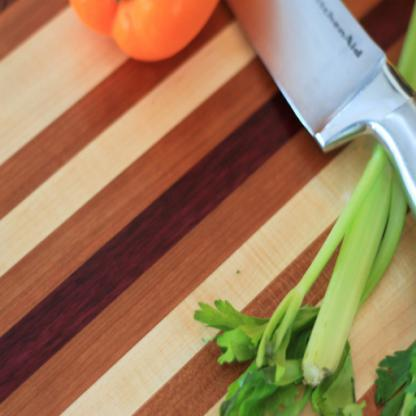knife: (155, 0, 416, 361)
